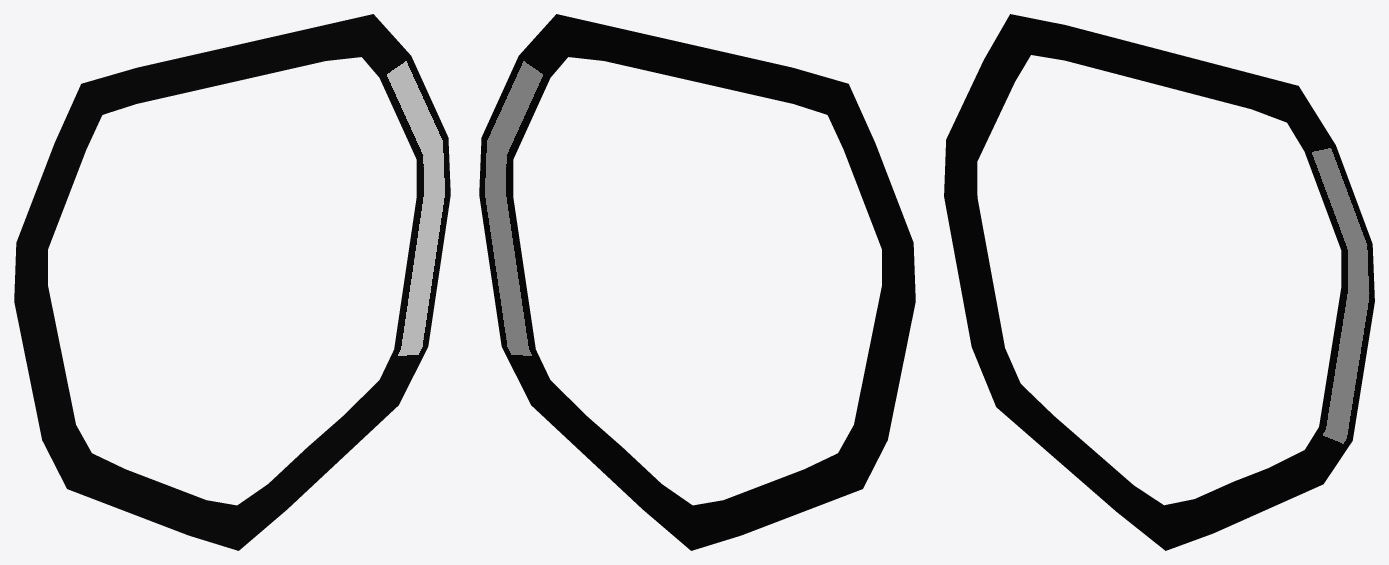
File: skill_item_01.FBX
3 renders of one model, left to right at view 1: azimuth 30°, elevation 25°; view 2: azimuth 150°, elevation 25°; view 3: azimuth 330°, elevation 25°, orthographic.
Parts seen in each view (by area): view 1: Plane002; view 2: Plane002; view 3: Plane002.
Boxes of the visible parts, bbox=[...] form: Plane002: bbox=[14, 14, 450, 550]; Plane002: bbox=[479, 14, 915, 550]; Plane002: bbox=[944, 14, 1374, 550].
Size of the model in its own units: 99.38 by 111 by 1.8e-05.
